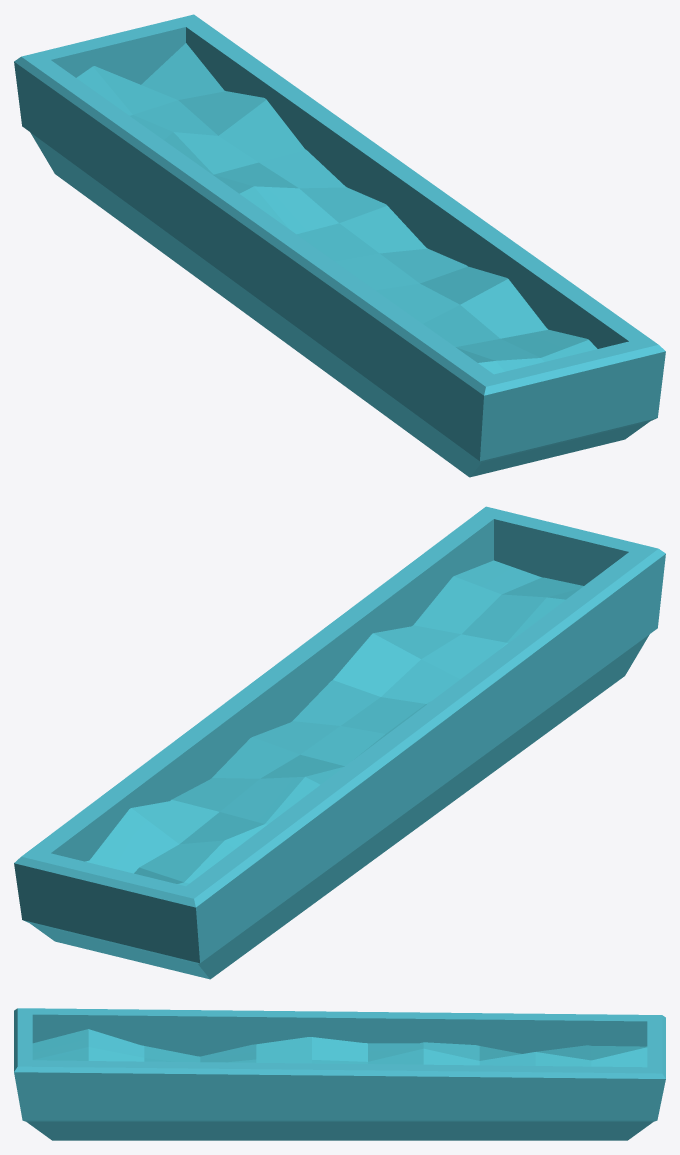
The model's file is waterdish_a.gltf.
3 renders of one model, top to bottom at view 1: azimuth 30°, elevation 25°; view 2: azimuth 150°, elevation 25°; view 3: azimuth 270°, elevation 25°, orthographic. The views are drawn at different scales.
Visible parts, largest first — view 1: waterdish_a001; view 2: waterdish_a001; view 3: waterdish_a001.
Part boxes in pixels (x1,y1,x2,y2): waterdish_a001: [14, 14, 665, 477]; waterdish_a001: [14, 506, 665, 979]; waterdish_a001: [14, 1008, 665, 1140].
Bounding box in the file's own units: 0.3902 × 0.2277 × 1.75.
1 material, 1 textured.
